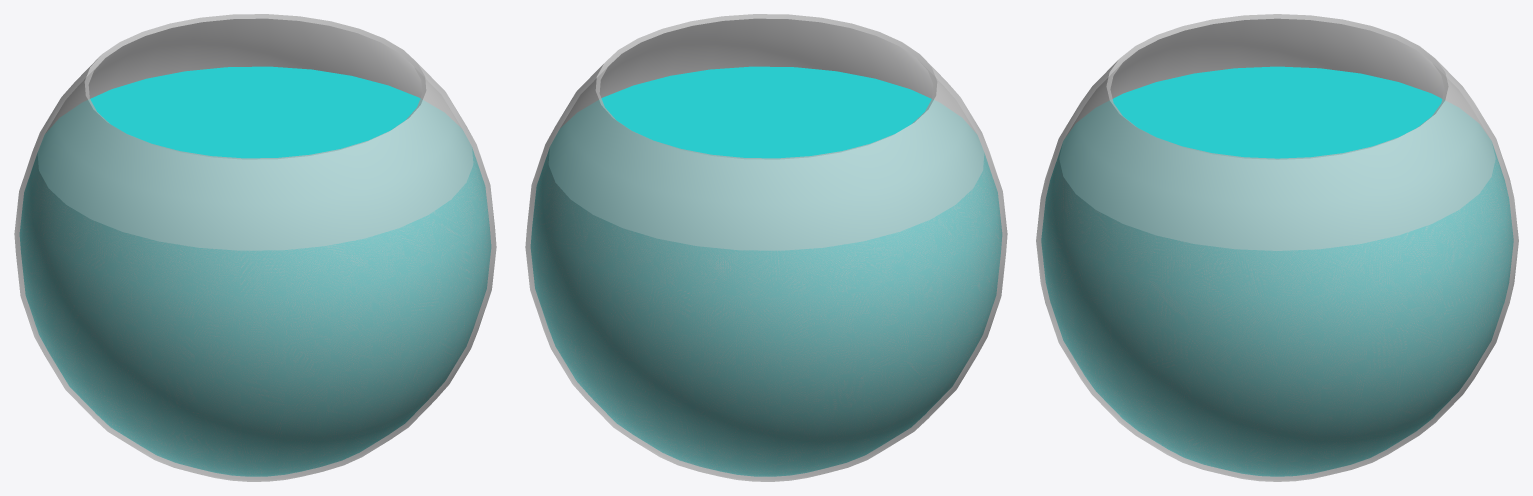
The model's file is fanus.fbx.
3 renders of one model, left to right at view 1: azimuth 30°, elevation 25°; view 2: azimuth 150°, elevation 25°; view 3: azimuth 270°, elevation 25°, orthographic.
Visible parts, largest first — view 1: fanus, fanusSU; view 2: fanus, fanusSU; view 3: fanus, fanusSU.
Boxes of the visible parts, box(x1,y1,x2,y2) form: fanus: box(14, 14, 496, 481); fanusSU: box(19, 66, 491, 476); fanus: box(525, 14, 1007, 481); fanusSU: box(530, 66, 1002, 476); fanus: box(1036, 14, 1518, 481); fanusSU: box(1041, 66, 1513, 476).
Bounding box in the file's own units: 95.71 × 81.62 × 95.71.
